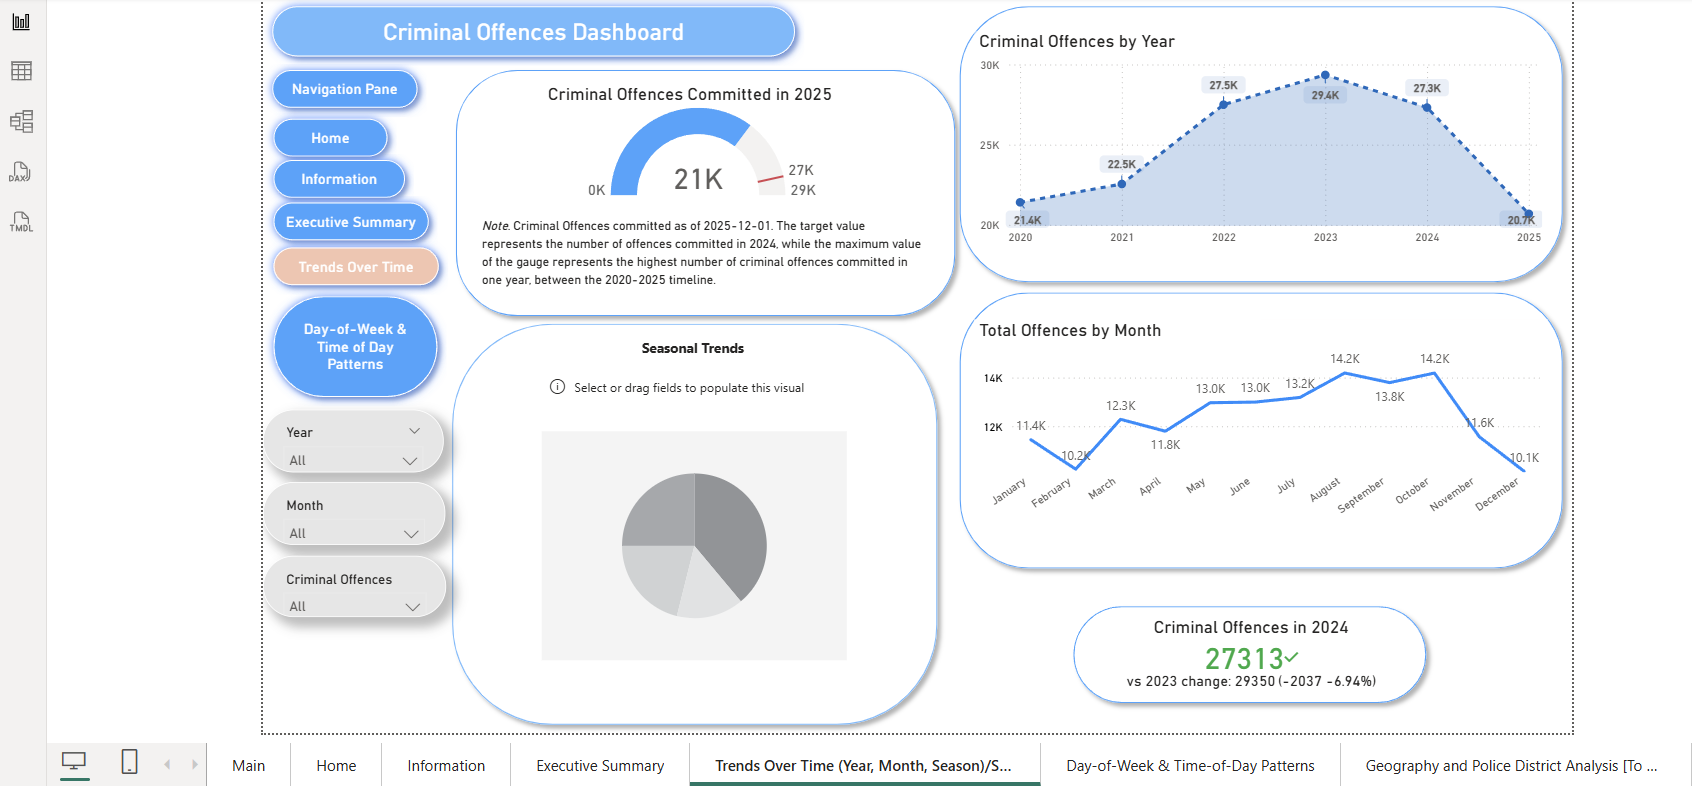

Layout of this report page (visuals, bound fields, positions):
{"tool":"powerbi","page":{"name":"Trends Over Time (Year, Month, Season)/Seasonal and Monthly Patterns (To Do)","canvas":[1280,720],"ordinal":4},"visuals":[{"type":"shape","box":[783.3,587.1,363.1,112.7],"z":0},{"type":"shape","box":[179.5,62.6,506.4,258.8],"z":1000},{"type":"shape","box":[176.7,310.3,492.5,410.4],"z":2000},{"type":"shape","box":[672,279.7,608,288],"z":3000},{"type":"shape","box":[672,0,608,288],"z":4000},{"type":"lineChart","title":"Criminal Offences by Year ","fields":{"Y":["CountNonNull(Data.Categorie d'Incident)"],"Category":["Data.Date - Annee"]},"box":[695.7,33.4,560.7,217],"z":5000},{"type":"kpi","title":"Criminal Offences in 2024 ","fields":{"Indicator":["Data.Total Offences 2024"],"Goal":["Data.Total Offences 2023"],"TrendLine":["Data.Date - Annee"]},"box":[830.6,606.6,272.7,76.5],"z":6000},{"type":"lineChart","title":"Total Offences by Month ","fields":{"Category":["Data.Date - Mois"],"Y":["CountNonNull(Data.Date - Mois)"]},"box":[695.7,315.8,560.7,208.7],"z":7000},{"type":"shape","box":[0,0,529.5,67.3],"z":8000},{"type":"shape","box":[0,62.4,160.2,55],"z":9000},{"type":"slicer","title":"Year","fields":{"Values":["Data.Date - Annee"]},"box":[0,403.5,176.7,61.2],"z":13000},{"type":"slicer","fields":{"Values":["Data.Date - Mois"]},"box":[0,474.4,178.1,61.2],"z":14000},{"type":"slicer","fields":{"Values":["Data.Criminal Offences"]},"box":[0,546.8,179.5,59.8],"z":15000},{"type":"gauge","title":"Criminal Offences Committed in 2025","fields":{"Y":["Data.Total Offences 2025"],"TargetValue":["Data.Total Offences 2024"],"MaxValue":["Data.Total Offences 2023"]},"box":[274.1,84.9,311.7,119.7],"z":16000},{"type":"textbox","box":[208.7,208.7,441,86.3],"z":17000},{"type":"pieChart","box":[273.2,366.2,298.7,298.7],"z":18000},{"type":"shape","box":[1.1,110,129.6,55],"z":18001},{"type":"shape","box":[1.1,150.4,146.7,55],"z":18002},{"type":"shape","box":[1.1,191.9,170,55],"z":18003},{"type":"shape","box":[1.1,235.7,179.8,54.9],"z":18004},{"type":"shape","box":[1.1,283.8,178.4,116.6],"z":18005},{"type":"textbox","box":[273.1,329.3,299.1,37],"z":18006}]}

Visuals, with their boxes on the page's 1280x720 design canvas (x1, y1, x2, y2). These are canvas units, not pixel positions in the 1692x786 screenshot, which may show the page scaled, cropped or inside an application window:
shape: <bbox>783, 587, 1146, 700</bbox>
shape: <bbox>180, 63, 686, 321</bbox>
shape: <bbox>177, 310, 669, 721</bbox>
shape: <bbox>672, 280, 1280, 568</bbox>
shape: <bbox>672, 0, 1280, 288</bbox>
"Criminal Offences by Year " lineChart: <bbox>696, 33, 1256, 250</bbox>
"Criminal Offences in 2024 " kpi: <bbox>831, 607, 1103, 683</bbox>
"Total Offences by Month " lineChart: <bbox>696, 316, 1256, 524</bbox>
shape: <bbox>0, 0, 530, 67</bbox>
shape: <bbox>0, 62, 160, 117</bbox>
"Year" slicer: <bbox>0, 404, 177, 465</bbox>
slicer - Data.Date - Mois: <bbox>0, 474, 178, 536</bbox>
slicer - Data.Criminal Offences: <bbox>0, 547, 180, 607</bbox>
"Criminal Offences Committed in 2025" gauge: <bbox>274, 85, 586, 205</bbox>
textbox: <bbox>209, 209, 650, 295</bbox>
pieChart: <bbox>273, 366, 572, 665</bbox>
shape: <bbox>1, 110, 131, 165</bbox>
shape: <bbox>1, 150, 148, 205</bbox>
shape: <bbox>1, 192, 171, 247</bbox>
shape: <bbox>1, 236, 181, 291</bbox>
shape: <bbox>1, 284, 180, 400</bbox>
textbox: <bbox>273, 329, 572, 366</bbox>
